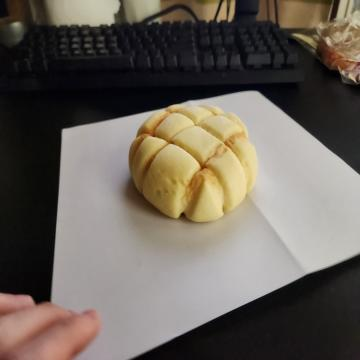melon_bread: (129, 102, 260, 226)
